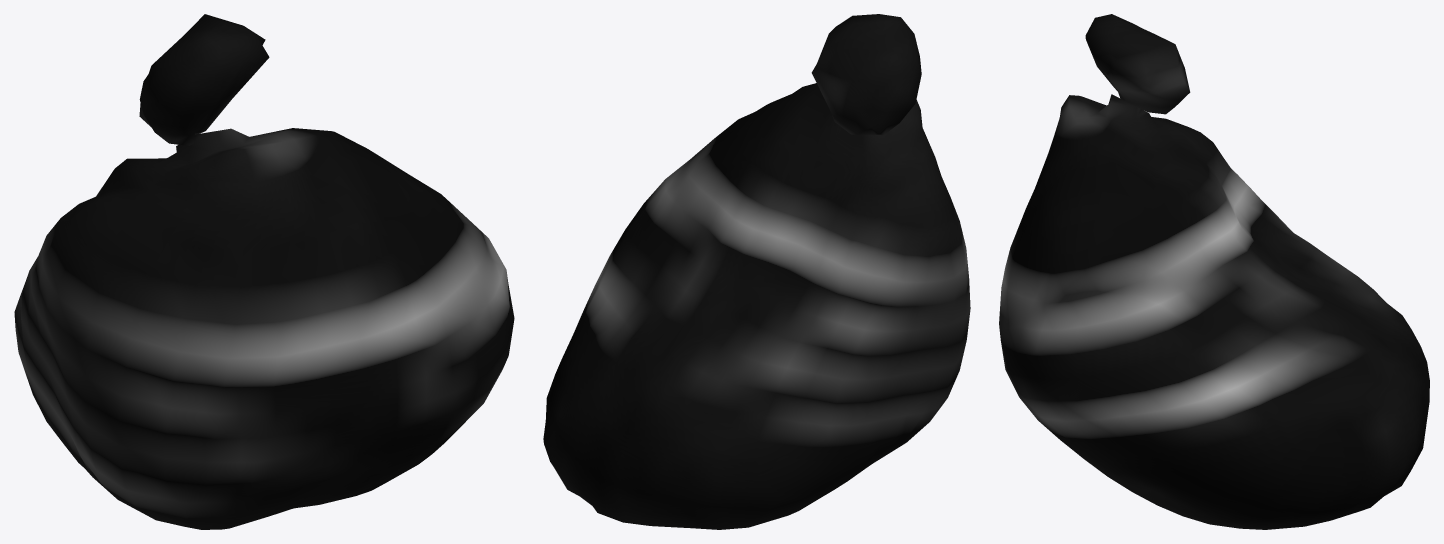
The model's file is BolsaBasura2.fbx.
3 views of the same model, side by side, from view 1: azimuth 30°, elevation 25°; view 2: azimuth 150°, elevation 25°; view 3: azimuth 270°, elevation 25° (orthographic). The views are drawn at different scales.
Visible parts, largest first — view 1: Bolsa basura 2; view 2: Bolsa basura 2; view 3: Bolsa basura 2.
Boxes of the visible parts, bbox=[...] form: Bolsa basura 2: bbox=[14, 14, 514, 529]; Bolsa basura 2: bbox=[543, 14, 970, 529]; Bolsa basura 2: bbox=[999, 14, 1429, 529].
Bounding box in the file's own units: 81.65 × 105 × 92.96.
